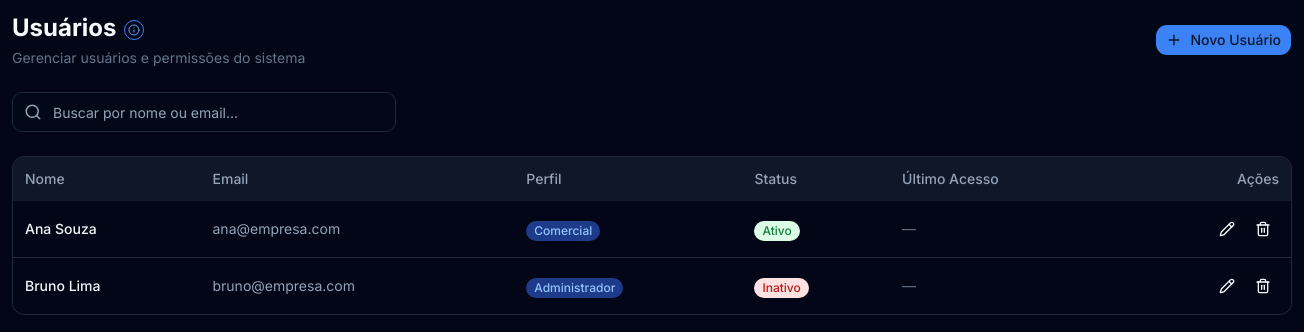
Test: UsuariosPage › filtra a lista pela busca
Expected: the text "Ana Souza" is shown, [13, 201, 200, 258]
Type "Ana" into the field with placeholder "Buscar por nome ou email...".
click(204, 112); type("Ana")  # box [12, 92, 396, 132]
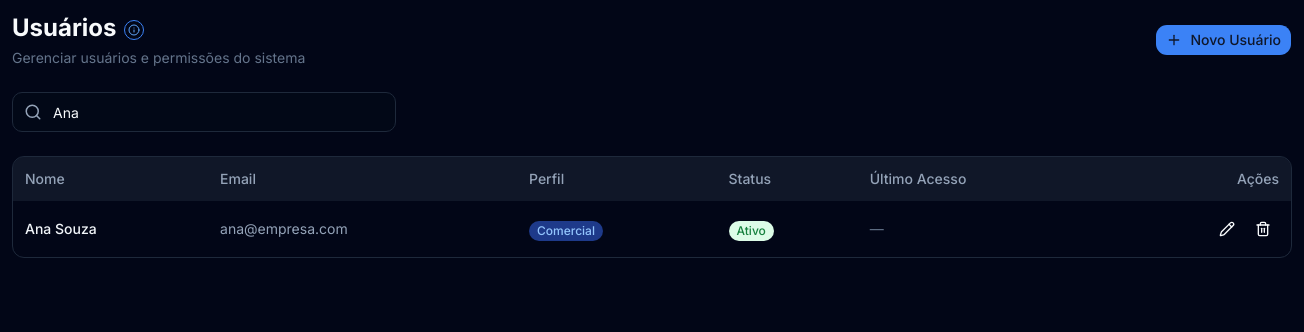
Expected: the text "Ana Souza" is shown, [13, 201, 208, 257]
Now the text "Bruno Lima" is gone
Replace the text in the field with placeholder "Buscar por nome ou email..." with "zzz-inexistente" at (204, 112), box [12, 92, 396, 132]
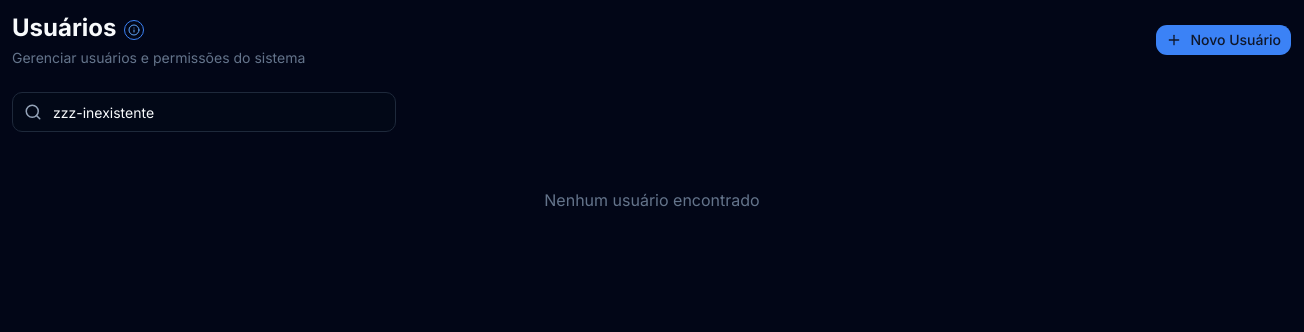
Now the text "Ana Souza" is gone
Now the text "Nenhum usuário encontrado" is shown, box [544, 190, 760, 210]
